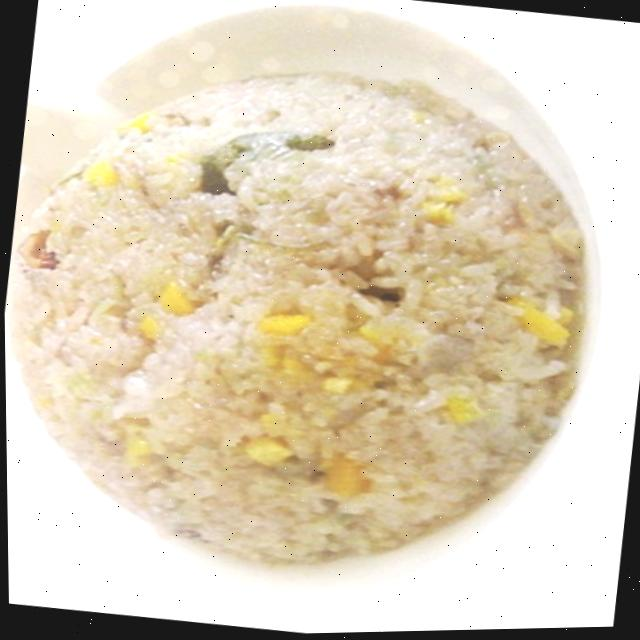米饭主食: (0, 0, 627, 627)
